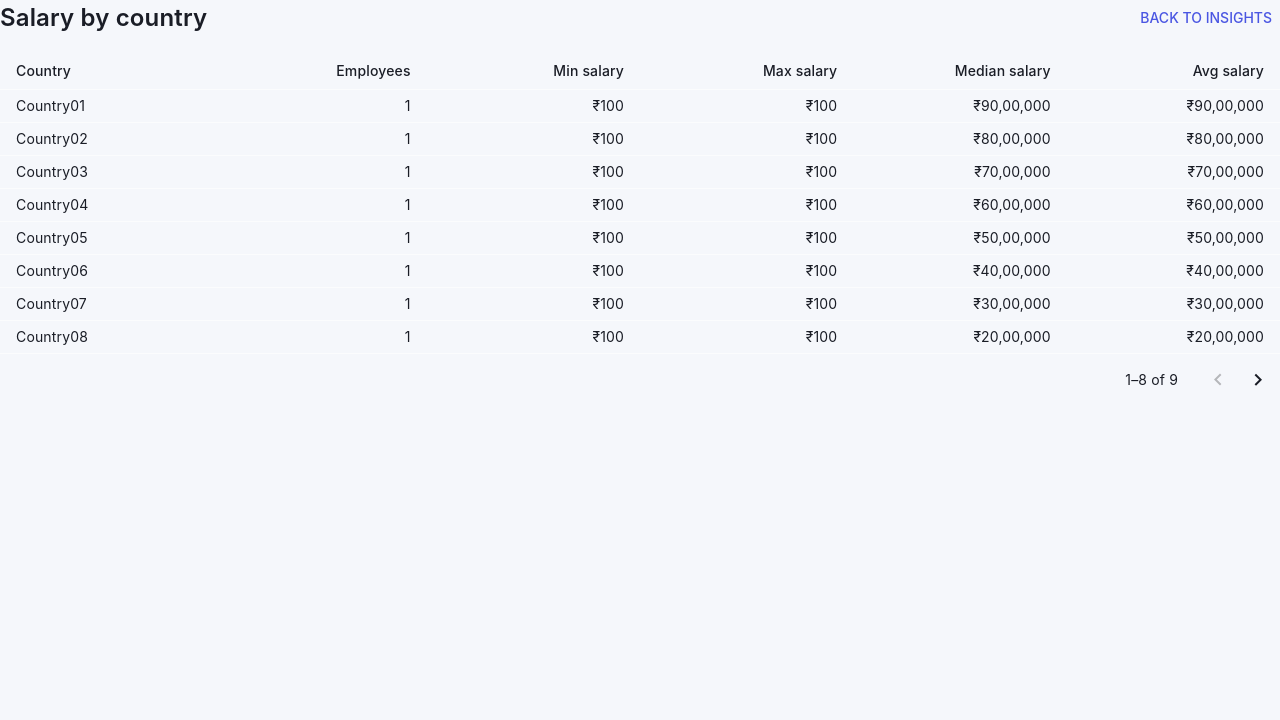
Test case: InsightsCountriesPage › shows error alert in job titles dialog when job titles fetch fails
Click the cell "Country01". click: (107, 106)
box: [0,89,213,122]
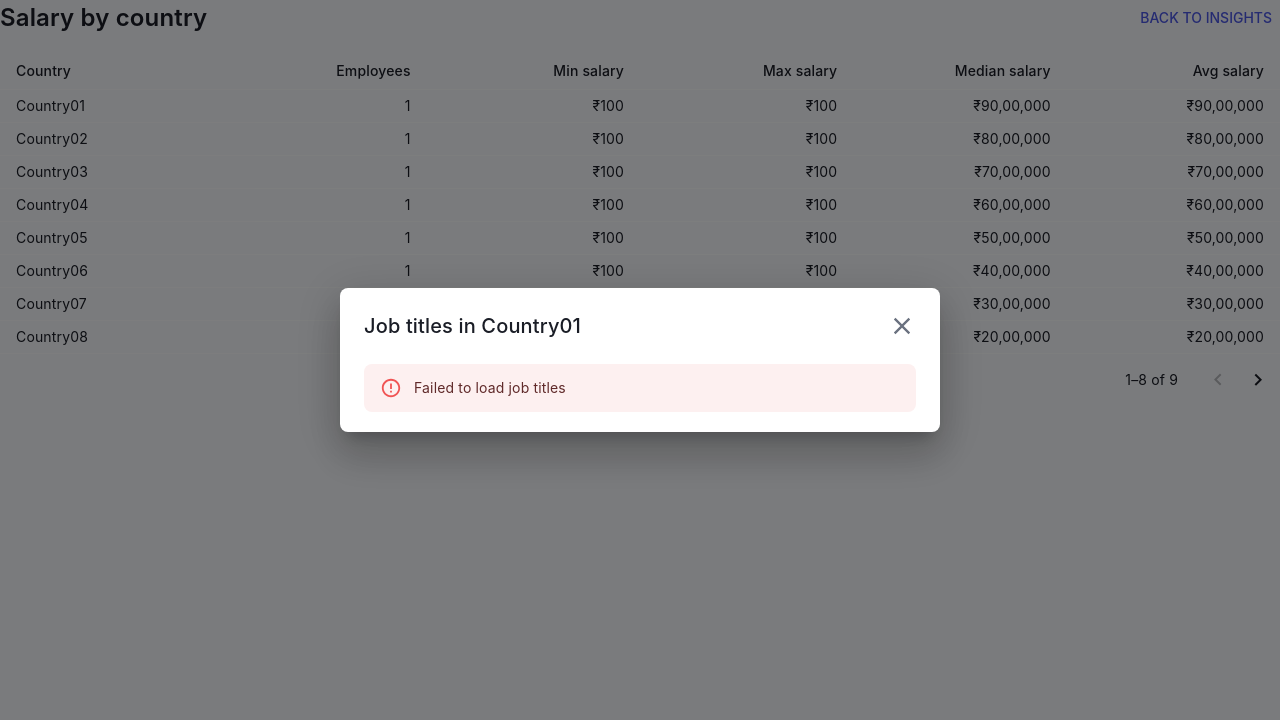
Expected: the message reads "Failed to load job titles", [414,379,566,396]
Expected: the number of messages is 1, [364,364,916,412]
Click the button named "close". click: (902, 326)
box: [880,304,924,348]
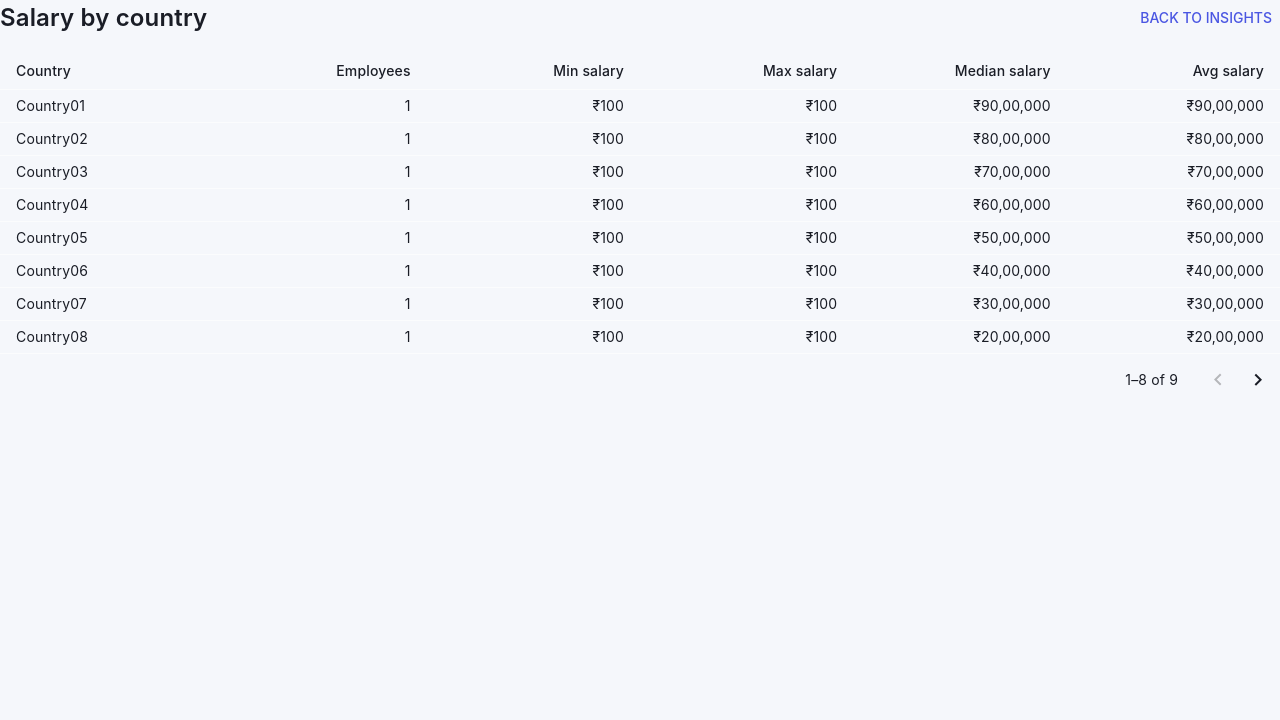
Expected: the heading "Job titles in Country01" is gone
